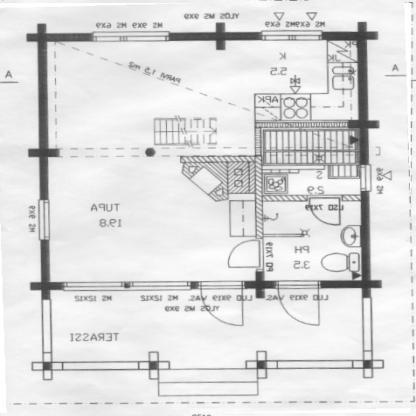door: (196, 278, 251, 330), (273, 279, 327, 330), (225, 238, 267, 273), (306, 195, 346, 227)
window: (58, 274, 194, 298), (88, 25, 174, 49), (257, 25, 329, 46), (34, 197, 56, 244), (356, 162, 378, 196)
